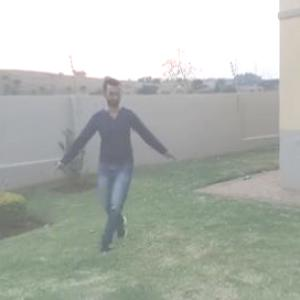land: (51, 70, 170, 260)
